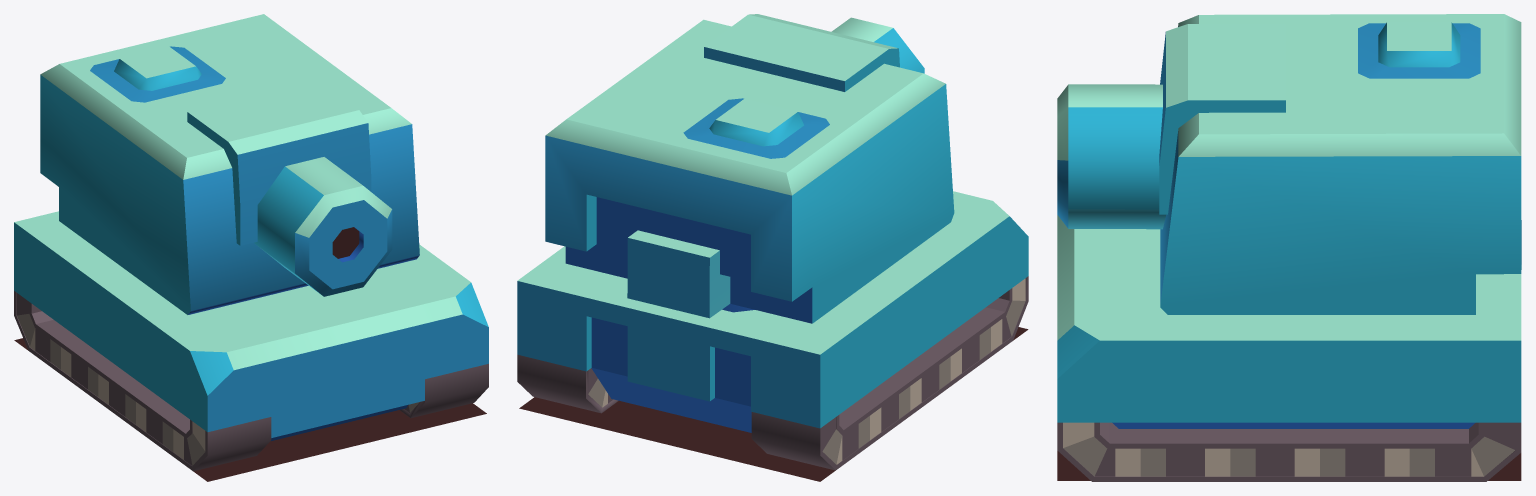
The model's file is MediumTankMesh.AzureAsteroid.glb.
The picture shows the model from 3 angles, left to right: view 1: azimuth 30°, elevation 25°; view 2: azimuth 150°, elevation 25°; view 3: azimuth 270°, elevation 25°; orthographic projection. The views are drawn at different scales.
Parts seen in each view (by area): view 1: MediumTankMesh.AzureAsteroid; view 2: MediumTankMesh.AzureAsteroid; view 3: MediumTankMesh.AzureAsteroid.
Boxes of the visible parts, x1,y1,x2,y2 form: MediumTankMesh.AzureAsteroid: (14,14,488,481); MediumTankMesh.AzureAsteroid: (517,14,1028,481); MediumTankMesh.AzureAsteroid: (1057,14,1521,481).
Size of the model in its own units: 1.72 by 1.66 by 2.05.
Materials: 1 (1 with a texture image).
